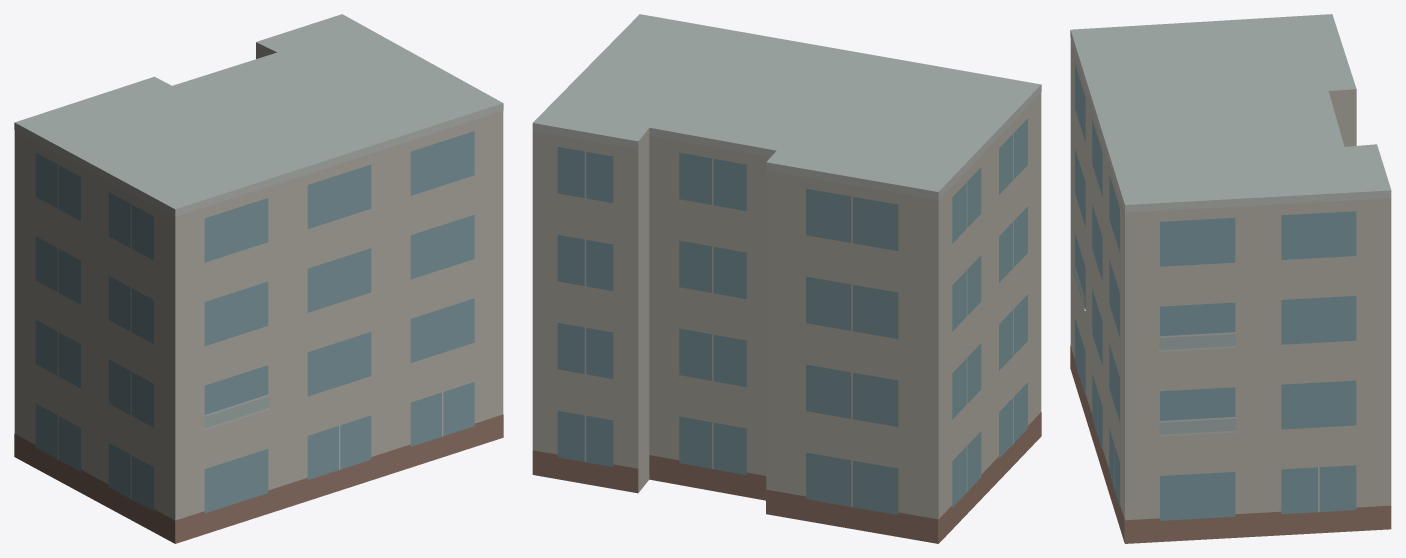
File: survey-upis-32533018.glb
3 renders of one model, left to right at view 1: azimuth 30°, elevation 25°; view 2: azimuth 150°, elevation 25°; view 3: azimuth 270°, elevation 25°, orthographic. The views are drawn at different scales.
Visible parts, largest first — view 1: survey-upis-32533018.tmp; view 2: survey-upis-32533018.tmp; view 3: survey-upis-32533018.tmp.
Boxes of the visible parts, x1,y1,x2,y2 form: survey-upis-32533018.tmp: [14, 14, 503, 543]; survey-upis-32533018.tmp: [532, 14, 1041, 543]; survey-upis-32533018.tmp: [1070, 14, 1391, 543].
Size of the model in its own units: 13.07 by 10.8 by 9.28.
